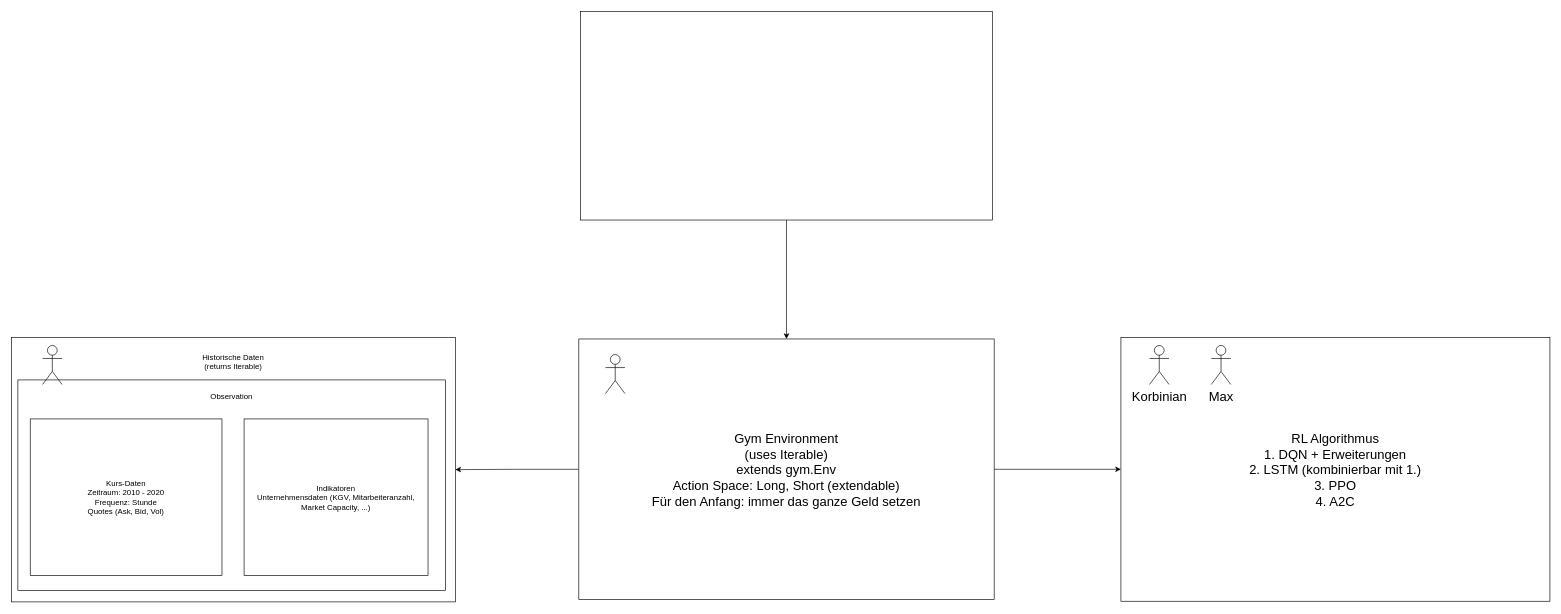
Image size: 1561x614. Some labels were removed from this diagram. The shapes that lost their labels are listed below. From the top down, each one's centre as x and y in pixels, then its label:
point (786, 115): main.py (später: config.yaml)
point (52, 364): Jonas
point (615, 374): Andreas
